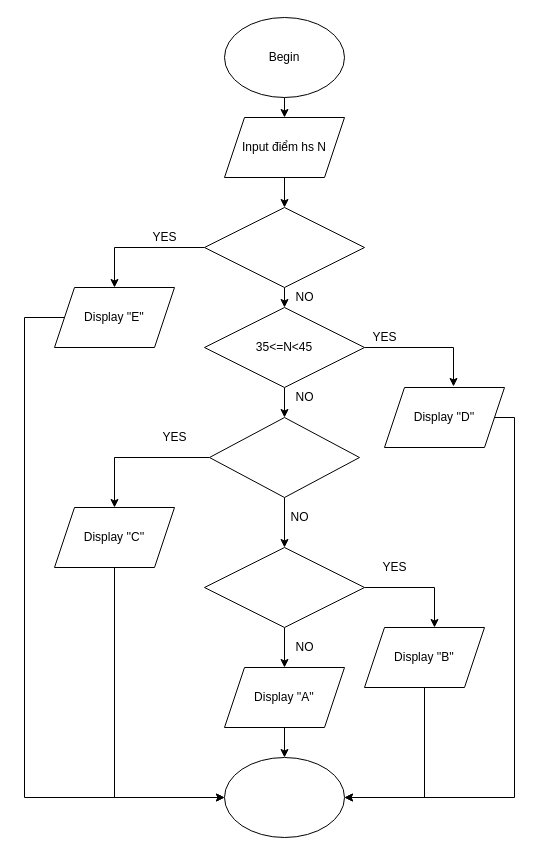
Image size: 540x855. Some labels were removed from this diagram. The shapes that lost their labels are listed below. From the top down, each one's box as (x1, y1, x2, y2) in pixels, then its label:
(204, 206, 364, 288): N<35
(208, 416, 360, 498): 45<=N<60
(204, 546, 364, 628): 60<=N<75
(224, 756, 344, 838): End
